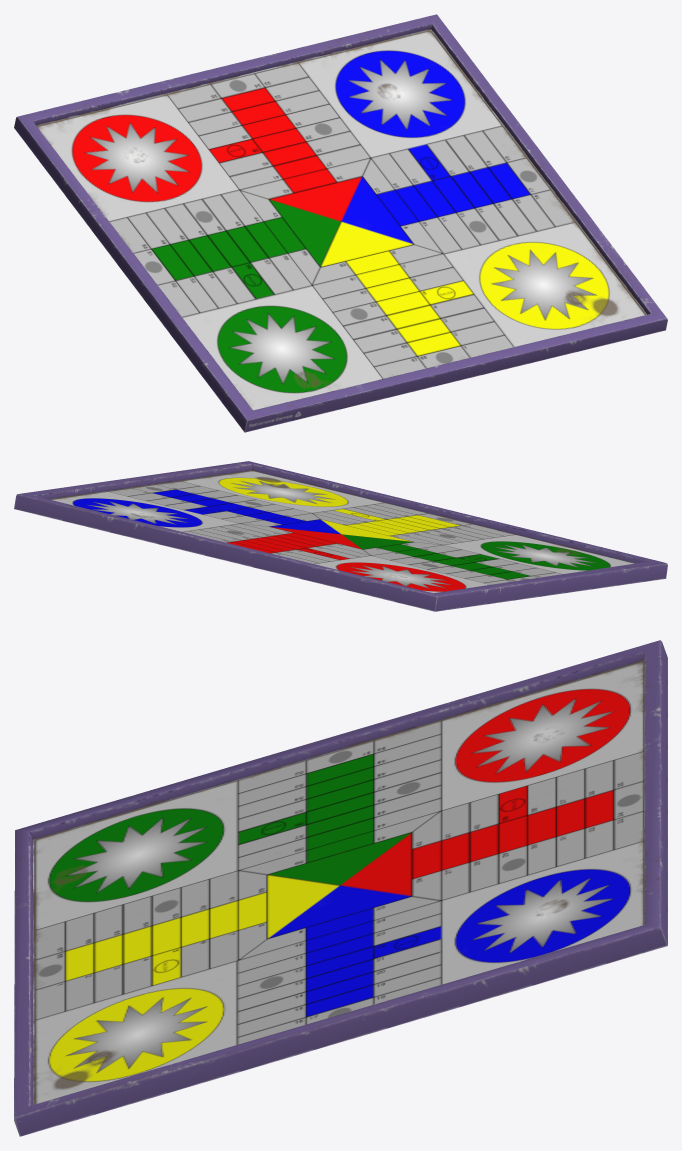
File: mesa.glb
The picture shows the model from 3 angles, top to bottom: view 1: azimuth 30°, elevation 25°; view 2: azimuth 150°, elevation 25°; view 3: azimuth 270°, elevation 25°; orthographic projection. The views are drawn at different scales.
Visible parts, largest first — view 1: Cylinder003.003; view 2: Cylinder003.003; view 3: Cylinder003.003.
Part boxes in pixels (<box>): Cylinder003.003: <box>14,14,667,432</box>; Cylinder003.003: <box>14,461,667,611</box>; Cylinder003.003: <box>14,640,667,1136</box>.
Bounding box in the file's own units: 0.3301 × 0.1118 × 0.3167.
Materials: 1 (1 with a texture image).
